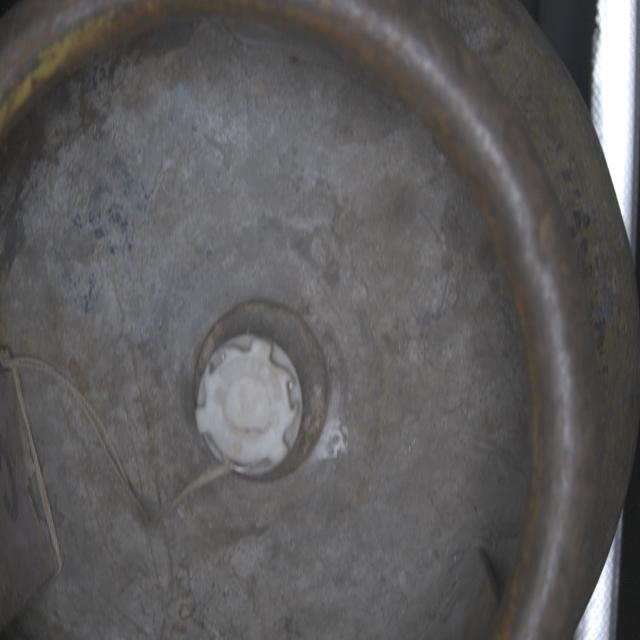Cap: (197, 338, 304, 477)
